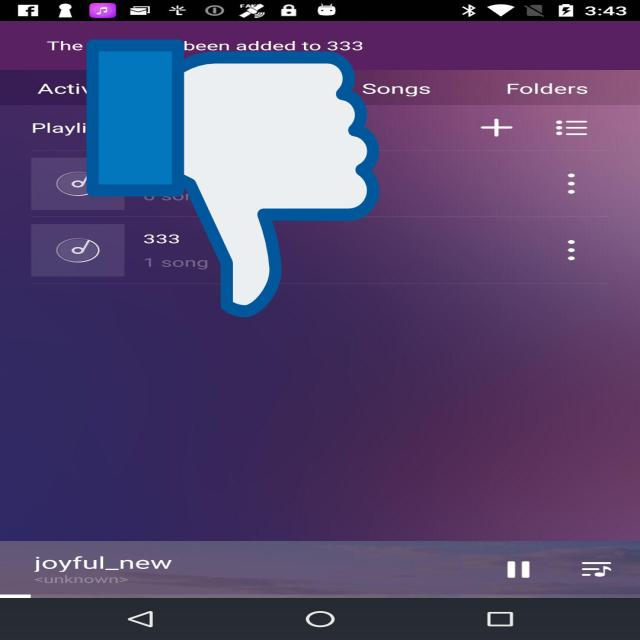obstruction: (87, 34, 379, 324)
